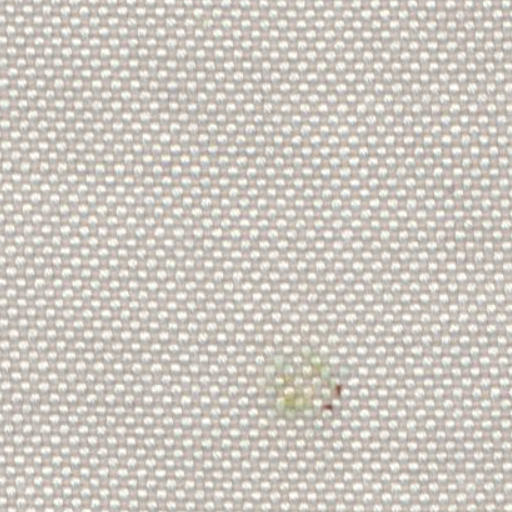WuZi: (252, 331, 370, 436)
